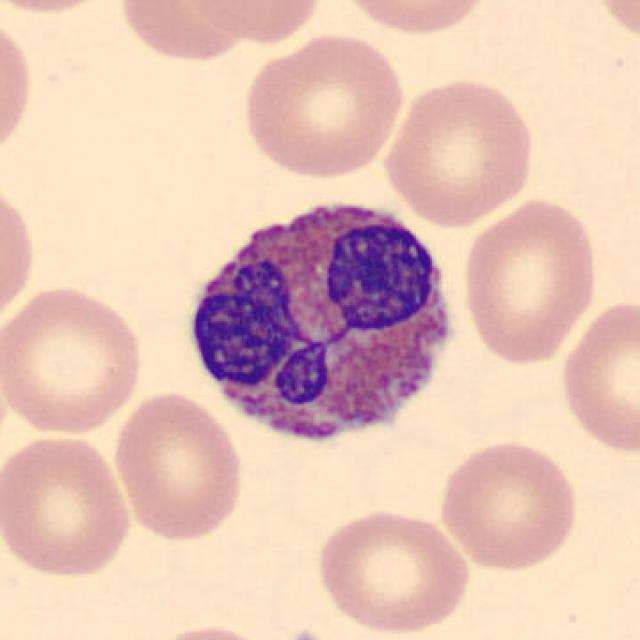Eosinophil: (176, 182, 473, 464)
RBC: (238, 30, 409, 180), (377, 72, 539, 228), (459, 194, 601, 368), (0, 280, 149, 438), (311, 504, 475, 638), (109, 388, 247, 545), (0, 428, 135, 582), (434, 435, 581, 575), (556, 294, 638, 458), (113, 0, 260, 65), (181, 0, 327, 46), (329, 0, 496, 39), (0, 176, 39, 330), (0, 7, 37, 169), (140, 620, 277, 640), (586, 0, 640, 47), (0, 0, 124, 16)
